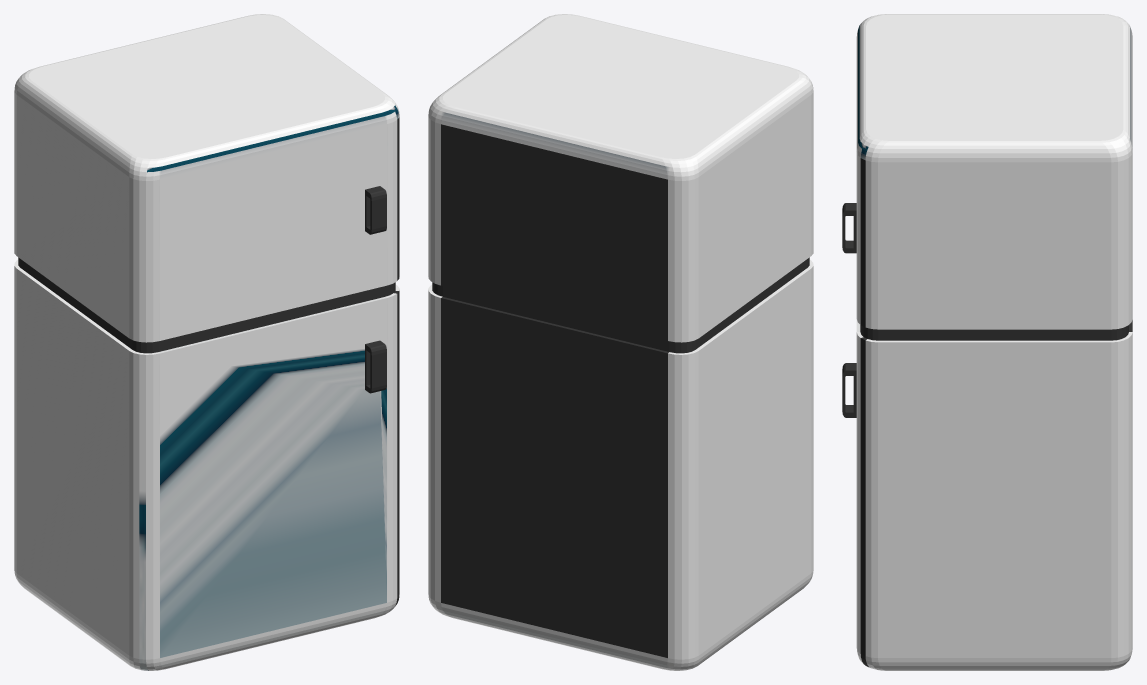
Rendered from Fridge con UV.fbx.
3 renders of one model, left to right at view 1: azimuth 30°, elevation 25°; view 2: azimuth 150°, elevation 25°; view 3: azimuth 270°, elevation 25°, orthographic. The views are drawn at different scales.
Visible parts, largest first — view 1: Nevera; view 2: Nevera; view 3: Nevera.
Part boxes in pixels (x1=…): Nevera: x1=14, y1=14, x2=399, y2=670; Nevera: x1=428, y1=14, x2=813, y2=670; Nevera: x1=842, y1=14, x2=1132, y2=670.
Bounding box in the file's own units: 438 × 798 × 397.
